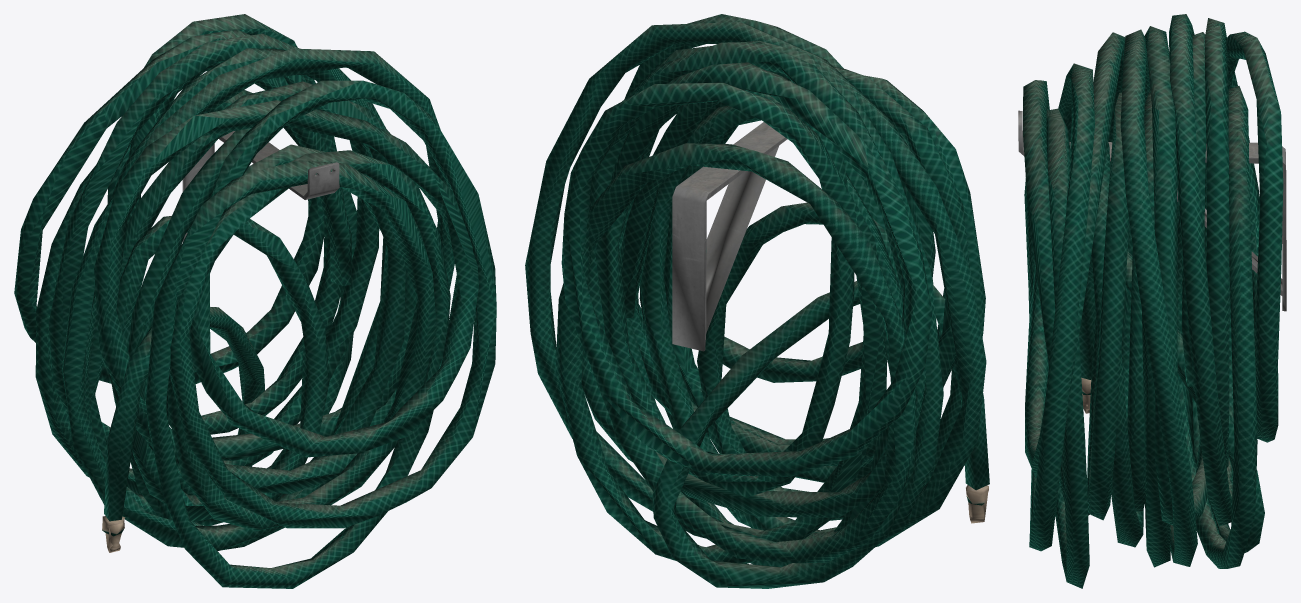
Rendered from GardenHoseWallMountedLOD1.fbx.
3 views of the same model, side by side, from view 1: azimuth 30°, elevation 25°; view 2: azimuth 150°, elevation 25°; view 3: azimuth 270°, elevation 25° (orthographic). The views are drawn at different scales.
Visible parts, largest first — view 1: garden_hose, garden_hose_wall_bracket; view 2: garden_hose, garden_hose_wall_bracket; view 3: garden_hose, garden_hose_wall_bracket.
Part boxes in pixels (x1=…): garden_hose: x1=14, y1=14, x2=496, y2=588; garden_hose_wall_bracket: x1=182, y1=131, x2=339, y2=242; garden_hose: x1=525, y1=14, x2=989, y2=588; garden_hose_wall_bracket: x1=672, y1=122, x2=787, y2=351; garden_hose: x1=1023, y1=14, x2=1283, y2=588; garden_hose_wall_bracket: x1=1018, y1=110, x2=1286, y2=311.
Bounding box in the file's own units: 46.83 × 55.8 × 25.03.
1 material, 1 textured.
